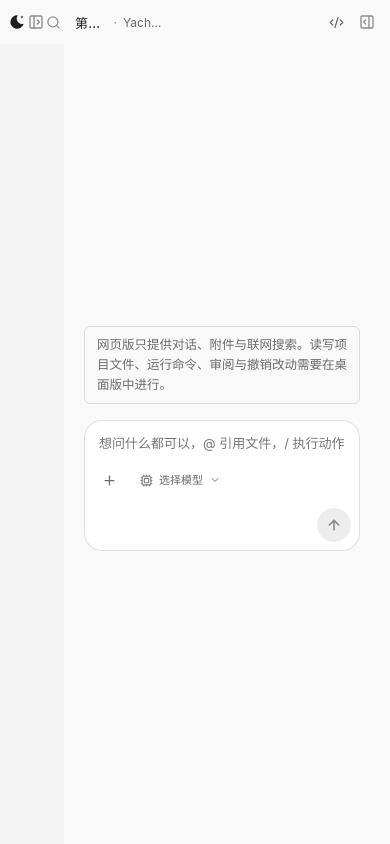
DesktopLayout › toggles right artifacts and review pane via Ctrl+B and header button
// 点击顶栏成果审阅按钮展开
Click the button named "展开成果面板" at (367, 22), box [352,7,382,37]
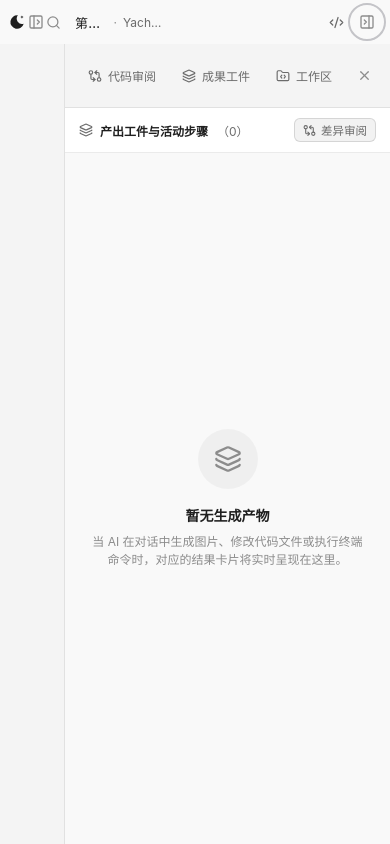
Expected: the element named "成果与多功能审阅面板" is shown
Expected: the tab "代码审阅" is shown, [77,58,167,93]
Expected: the tab "成果工件" is shown, [171,58,261,93]
// 使用快捷键 Ctrl+B 关闭
Type keys "{Control>}b{/Control}"
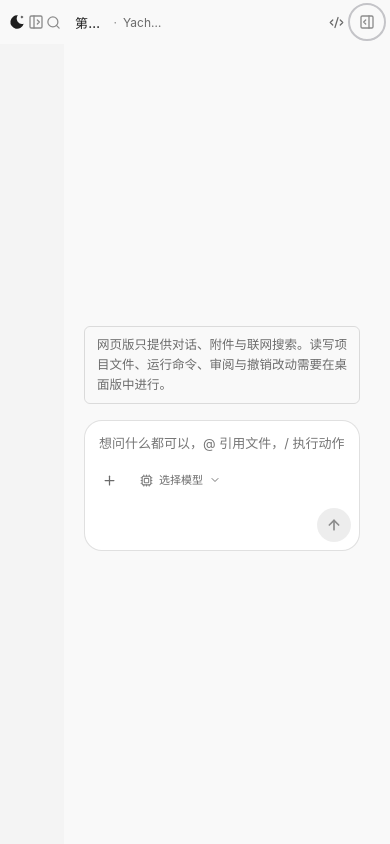
Expected: the element "成果与多功能审阅面板" is gone
// 再次使用快捷键 Ctrl+B 重新展开
Type keys "{Control>}b{/Control}"
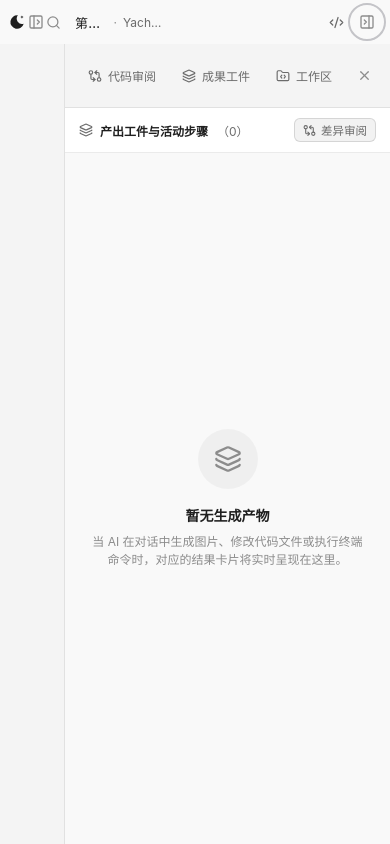
Expected: the element named "成果与多功能审阅面板" is shown
// 点击面板右上角关闭按钮收起
Click the button named "关闭成果面板" at (364, 76), box [350,62,378,90]
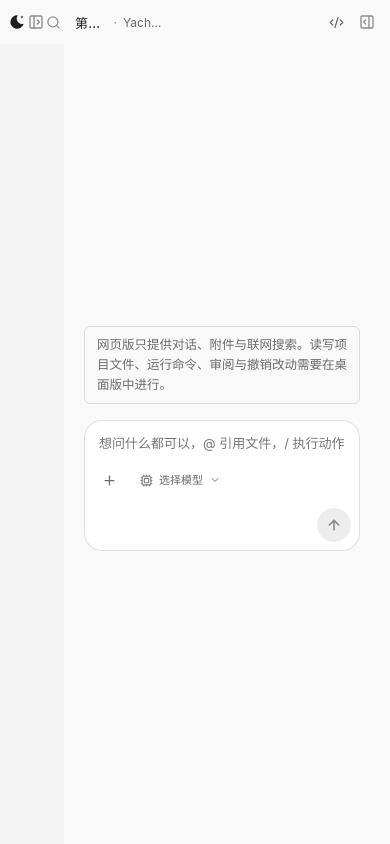
Expected: the element "成果与多功能审阅面板" is gone
